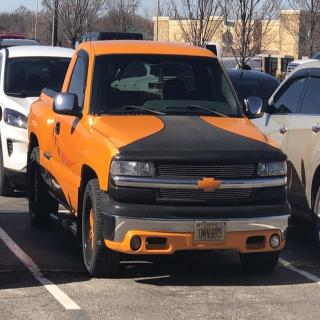license: (195, 222, 228, 244)
